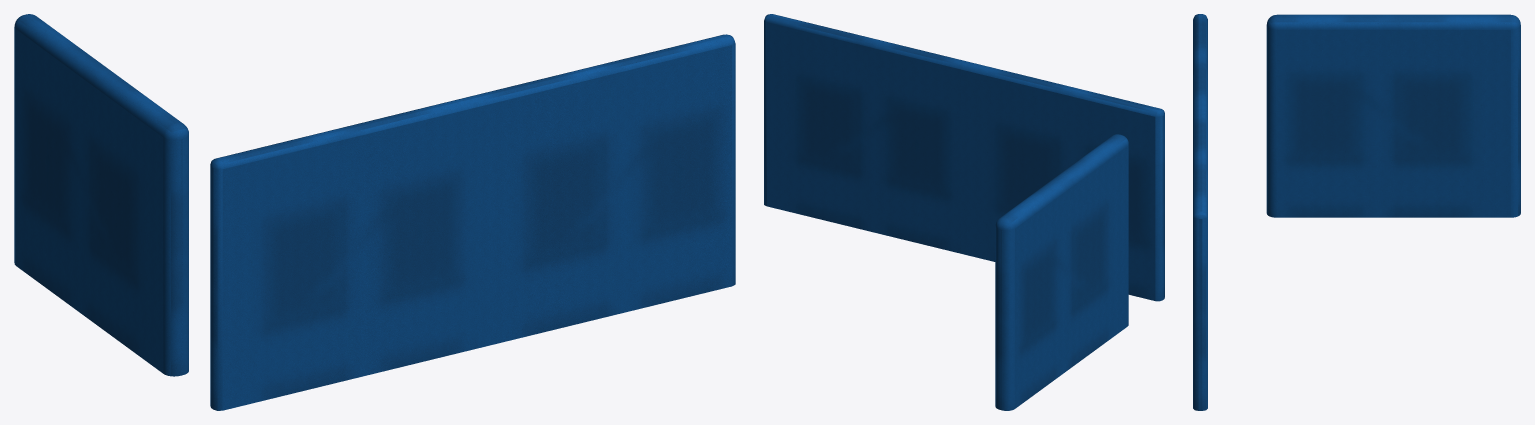
File: 10-standing-binder-band-4-1.fbx
3 renders of one model, left to right at view 1: azimuth 30°, elevation 25°; view 2: azimuth 150°, elevation 25°; view 3: azimuth 270°, elevation 25°, orthographic. The views are drawn at different scales.
Parts seen in each view (by area): view 1: standing-binder-band-4-1; view 2: standing-binder-band-4-1; view 3: standing-binder-band-4-1.
Part boxes in pixels (left/top/right/bottom): standing-binder-band-4-1: left=14, top=14, right=735, bottom=410; standing-binder-band-4-1: left=764, top=14, right=1164, bottom=410; standing-binder-band-4-1: left=1193, top=14, right=1520, bottom=410.
Size of the model in its own units: 13020 by 5900 by 8900.
Materials: 1 (1 with a texture image).
